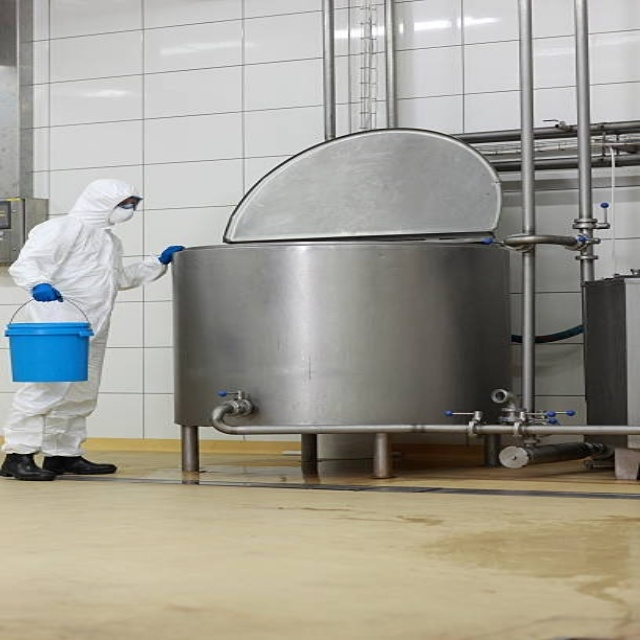Gafas: (119, 198, 139, 210)
Guantes: (31, 283, 63, 302), (158, 245, 184, 264)
Mascara: (108, 205, 136, 225)
